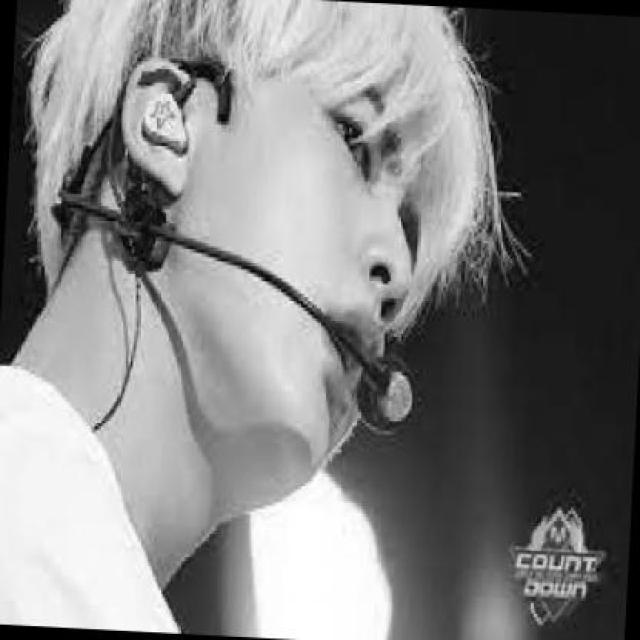earphone: (142, 90, 191, 164)
